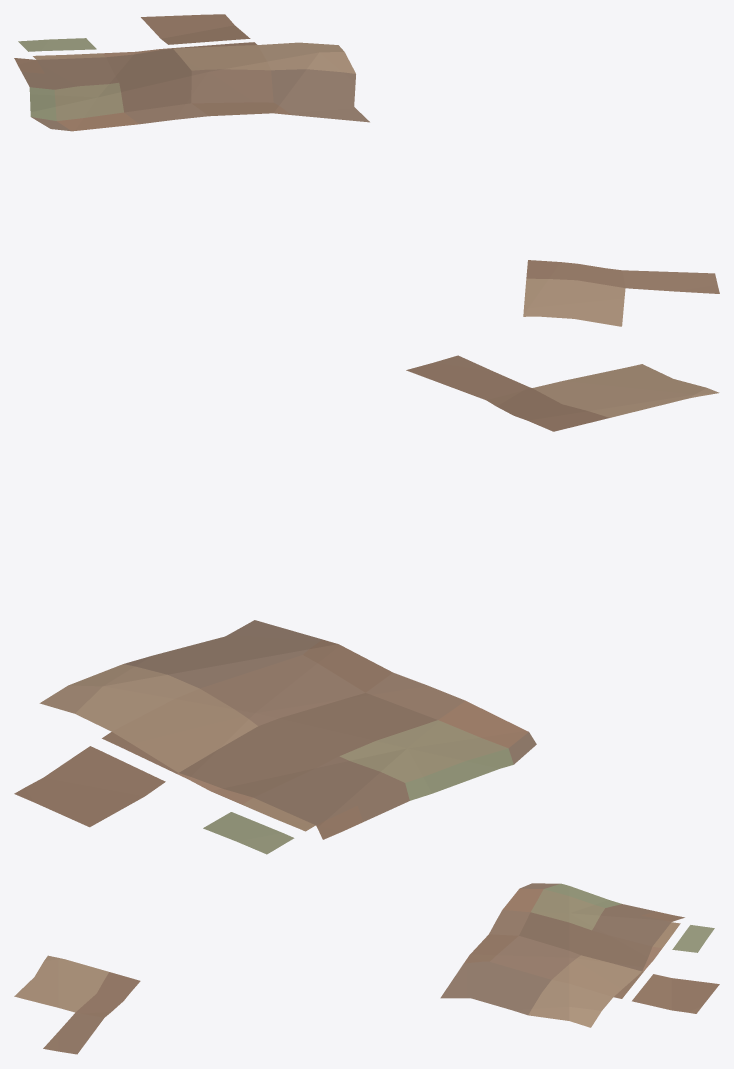
File: farm_-5_-1_soil.glb
3 views of the same model, one above another, from view 1: azimuth 30°, elevation 25°; view 2: azimuth 150°, elevation 25°; view 3: azimuth 270°, elevation 25° (orthographic). The views are drawn at different scales.
Parts seen in each view (by area): view 1: geometry_0; view 2: geometry_0; view 3: geometry_0.
Part boxes in pixels (x1=…): geometry_0: x1=14, y1=14, x2=719, y2=326; geometry_0: x1=14, y1=355, x2=719, y2=854; geometry_0: x1=14, y1=883, x2=719, y2=1054.
Size of the model in its own units: 276 by 21.3 by 553.
